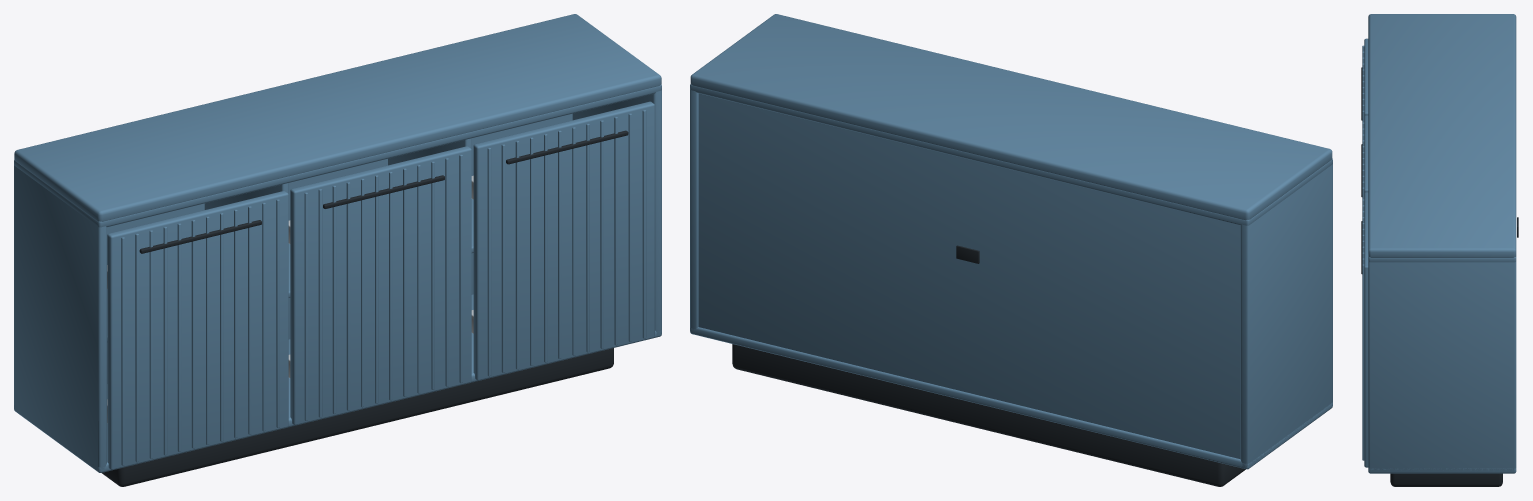
File: lacquer-sideboard.glb
3 views of the same model, side by side, from view 1: azimuth 30°, elevation 25°; view 2: azimuth 150°, elevation 25°; view 3: azimuth 270°, elevation 25° (orthographic). The views are drawn at different scales.
Parts seen in each view (by area): view 1: lacquer-sideboard; view 2: lacquer-sideboard; view 3: lacquer-sideboard.
Boxes of the visible parts, left/top/right/bottom form: lacquer-sideboard: left=14, top=14, right=661, bottom=486; lacquer-sideboard: left=690, top=14, right=1332, bottom=486; lacquer-sideboard: left=1361, top=14, right=1518, bottom=486.
Size of the model in its own units: 1.6 by 0.8 by 0.45.
